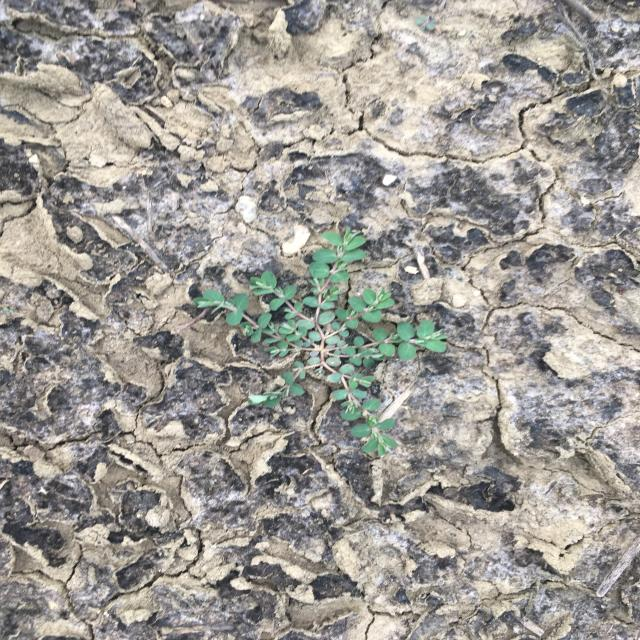SpottedSpurge: (190, 226, 452, 460)
